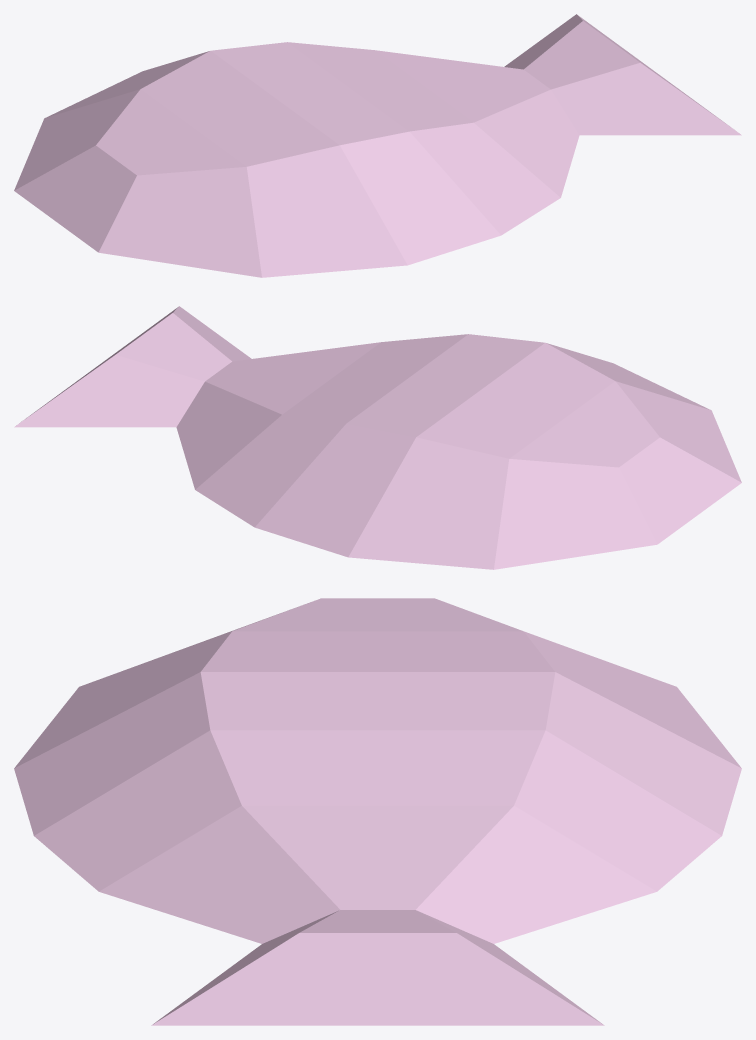
File: Seashell.fbx
3 renders of one model, top to bottom at view 1: azimuth 30°, elevation 25°; view 2: azimuth 150°, elevation 25°; view 3: azimuth 270°, elevation 25°, orthographic. The views are drawn at different scales.
Visible parts, largest first — view 1: Seashell; view 2: Seashell; view 3: Seashell.
Boxes of the visible parts, x1,y1,x2,y2 form: Seashell: (14,14,741,277); Seashell: (14,306,741,569); Seashell: (14,598,741,1025).
Size of the model in its own units: 26.34 by 2.94 by 20.07.
